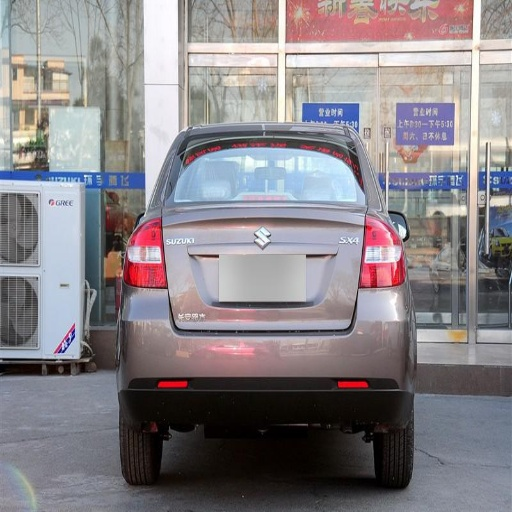back_bumper: (119, 283, 411, 421)
